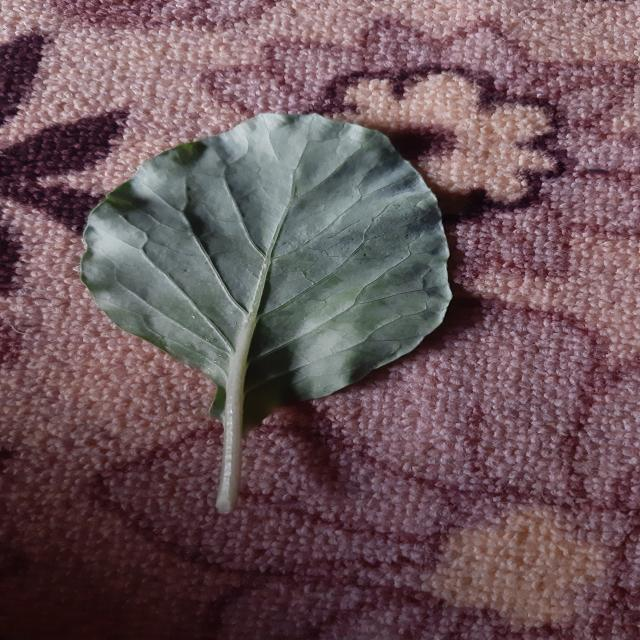Kohlrabi: (82, 114, 451, 512)
